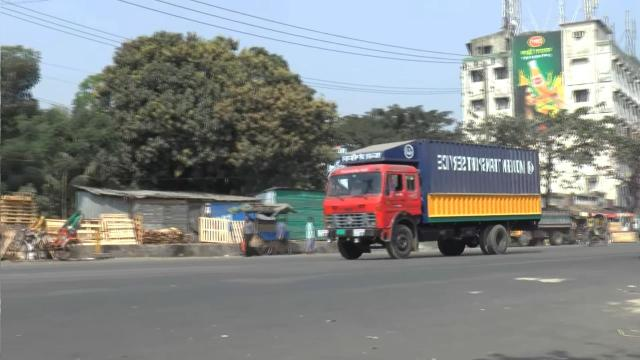truck: (316, 137, 550, 268)
